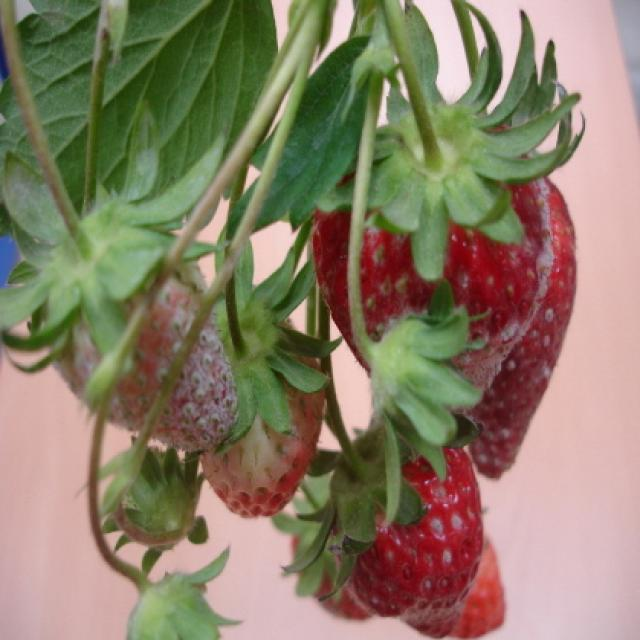Powdery Mildew Fruit: (310, 112, 553, 420), (29, 212, 241, 454), (462, 177, 576, 480), (326, 421, 485, 638)
